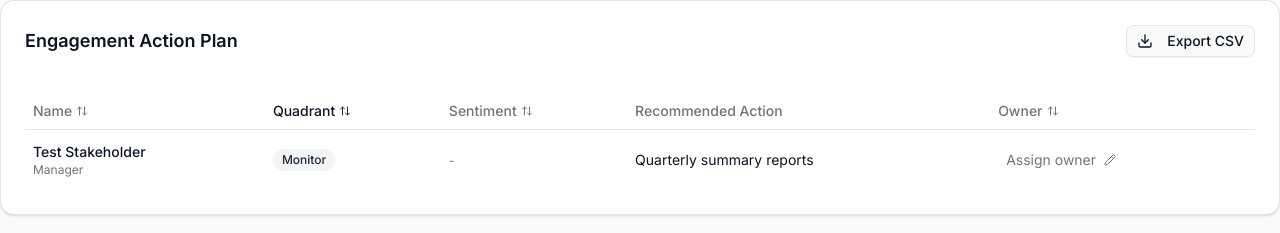
Test: EngagementActionTable › owner editing › cancels editing on cancel button
The width and height of the screenshot is (1280, 233).
Click the button "Assign owner": click(1061, 160) [998, 146, 1124, 174]
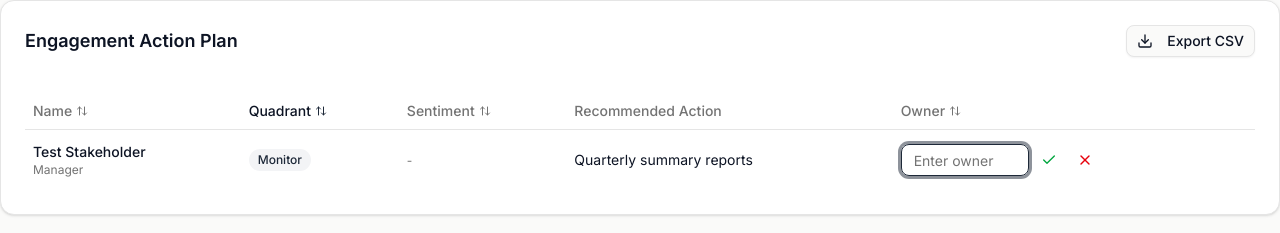
In the field with placeholder "Enter owner": (965, 160) [901, 144, 1029, 176], type "New Owner"
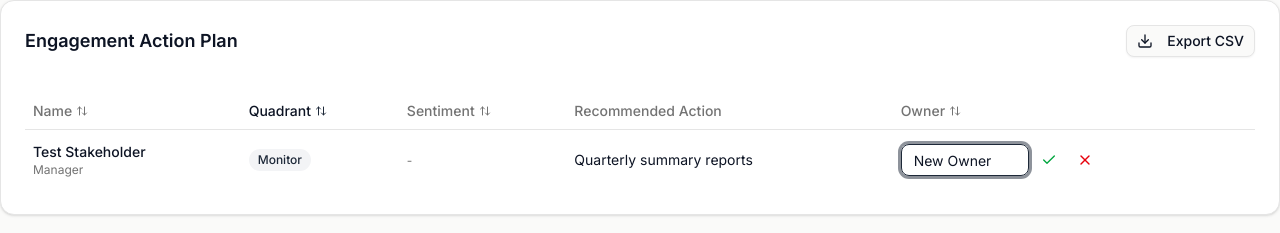
Click the button named "Cancel editing": click(1085, 160) [1069, 144, 1101, 176]
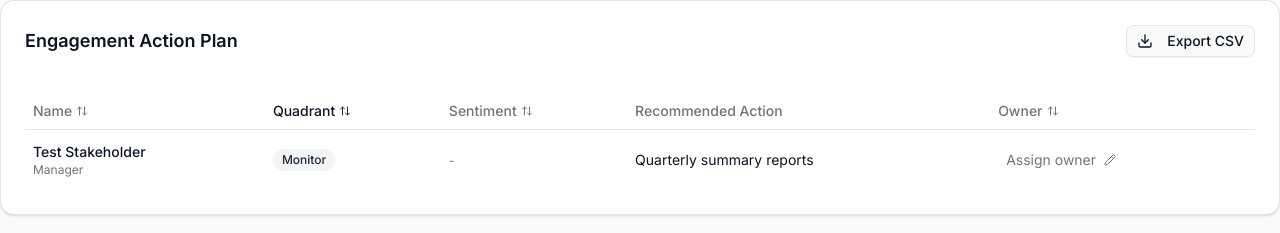
Check: the button "Assign owner" is shown, box [998, 146, 1124, 174]
